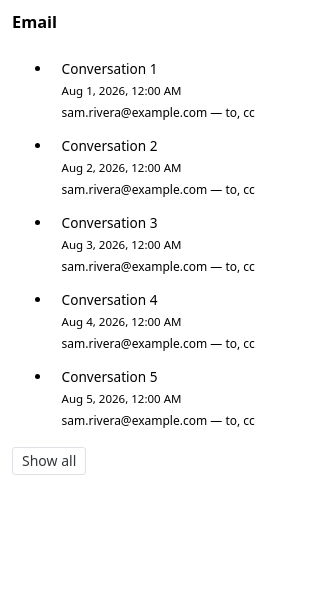
PersonEmailSection › a show-all control reveals the remaining rows in place, and is absent at 5 or fewer
Click the button "Show all": coordinates (49, 460) [12,446,86,474]
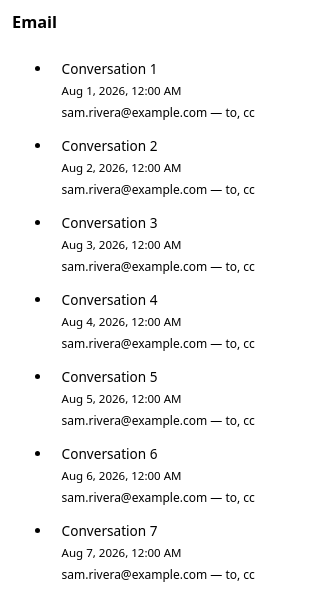
Result: the button "Show all" is gone
